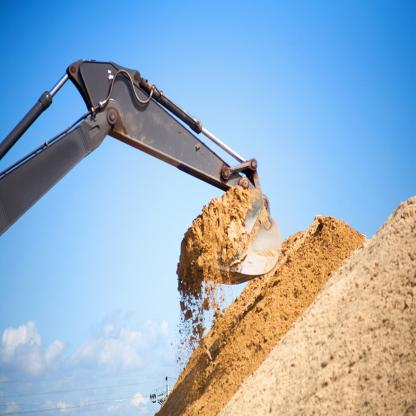excavator: (3, 41, 286, 302)
